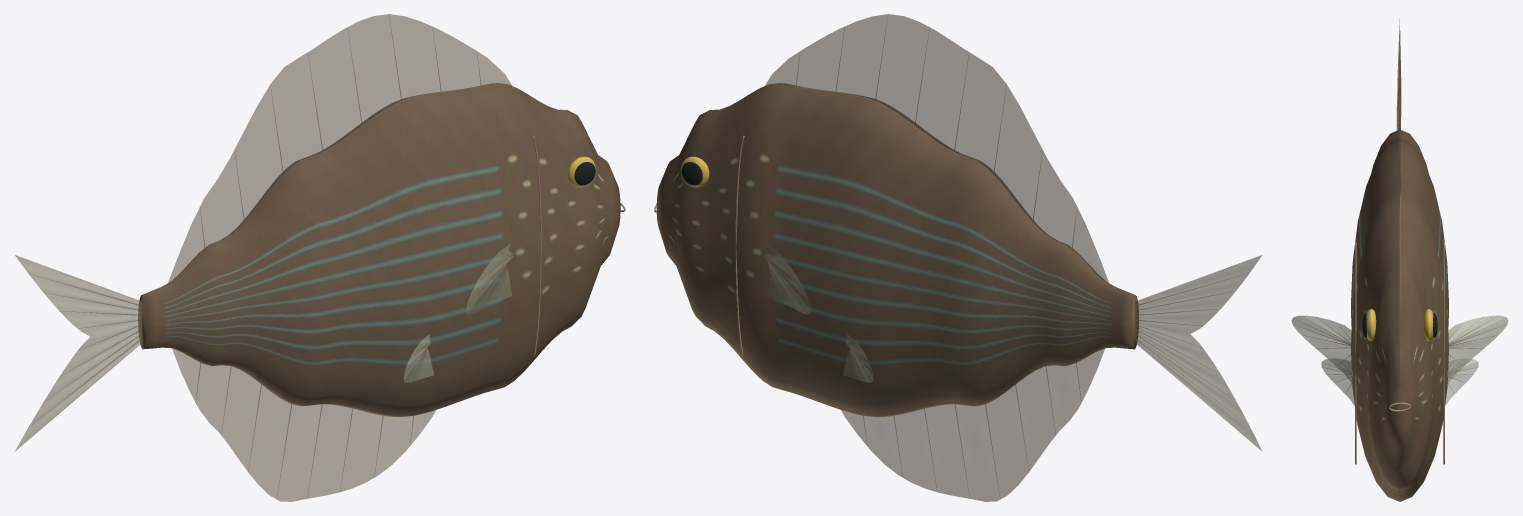
The model's file is kole-mobile.glb.
3 renders of one model, left to right at view 1: azimuth 30°, elevation 25°; view 2: azimuth 150°, elevation 25°; view 3: azimuth 270°, elevation 25°, orthographic.
Parts seen in each view (by area): view 1: skin, dorsal, anal, tail, dorsal-ray, pectoral-left, pelvic-left; view 2: skin, dorsal, anal, tail, dorsal-ray, pectoral-left, pelvic-left; view 3: skin, pectoral-left, pelvic-left, operculum, dorsal-ray, eye-iris--1, dorsal.
Boxes of the visible parts, left/top/right/bottom form: skin: left=138, top=83, right=620, bottom=416; dorsal: left=168, top=14, right=511, bottom=283; anal: left=172, top=348, right=435, bottom=501; tail: left=15, top=255, right=142, bottom=451; dorsal-ray: left=29, top=14, right=512, bottom=499; pectoral-left: left=466, top=244, right=512, bottom=314; pelvic-left: left=403, top=334, right=433, bottom=382; skin: left=656, top=83, right=1138, bottom=416; dorsal: left=765, top=14, right=1109, bottom=283; anal: left=841, top=348, right=1104, bottom=501; tail: left=1135, top=255, right=1262, bottom=451; dorsal-ray: left=764, top=14, right=1240, bottom=498; pectoral-left: left=764, top=244, right=810, bottom=314; pelvic-left: left=843, top=334, right=873, bottom=382; skin: left=1351, top=130, right=1448, bottom=501; pectoral-left: left=1291, top=315, right=1508, bottom=383; pelvic-left: left=1321, top=358, right=1478, bottom=405; operculum: left=1355, top=242, right=1444, bottom=464; dorsal-ray: left=1293, top=43, right=1506, bottom=392; eye-iris--1: left=1366, top=309, right=1433, bottom=340; dorsal: left=1398, top=30, right=1401, bottom=208.
Bounding box in the file's own units: 0.5972 × 0.4409 × 0.1855.
11 materials, 1 textured.
